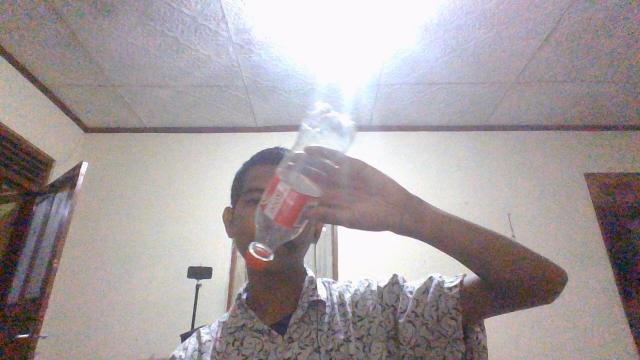coca-cola: (244, 101, 358, 268)
